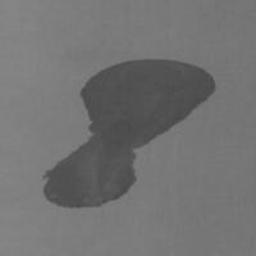Oil spot: (42, 58, 216, 210)
